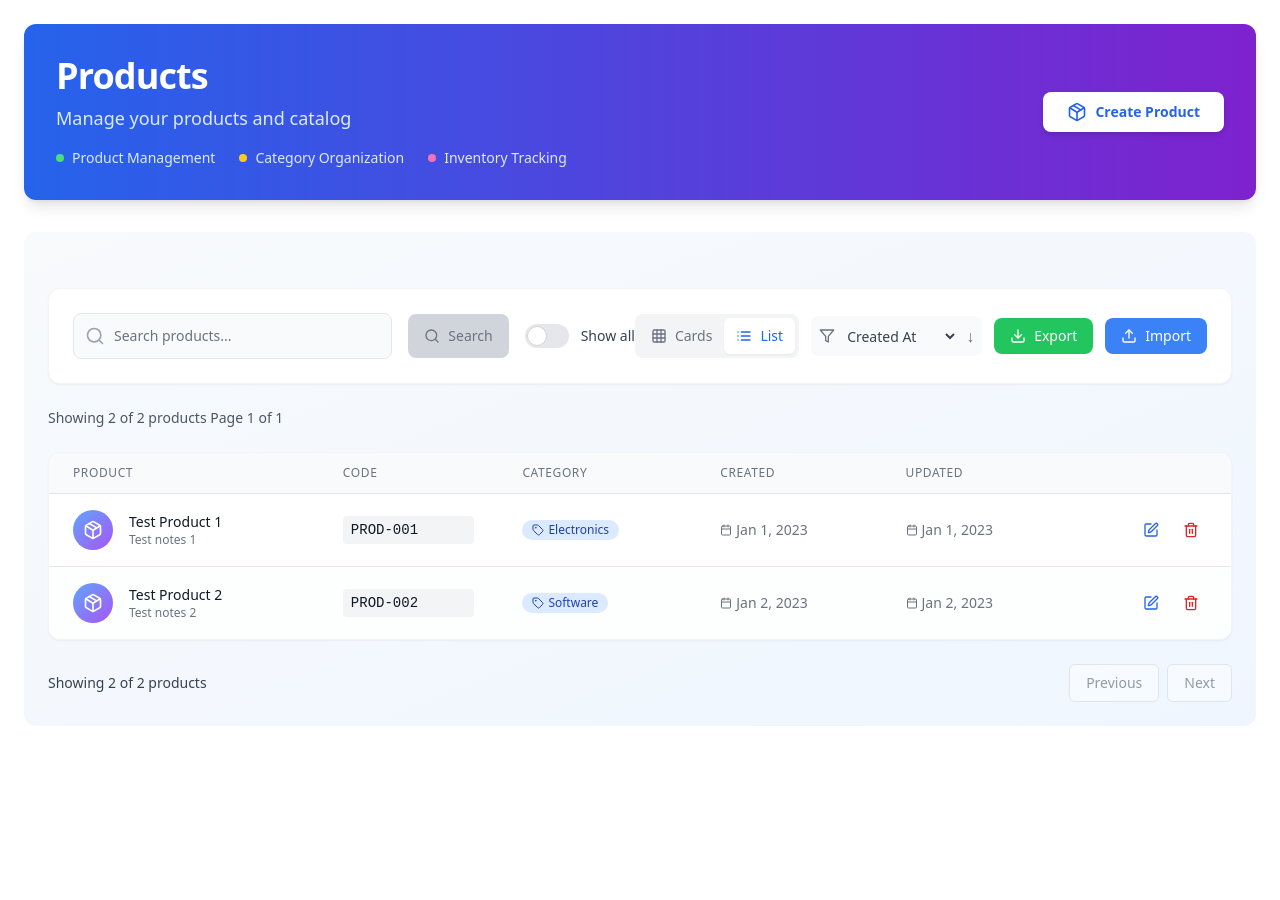
Test: Products Dashboard Page › Create Product Modal › should close modal when close button is clicked
// Open modal
Click the button "Create Product". click: (1134, 112)
box: [1043,92,1224,132]
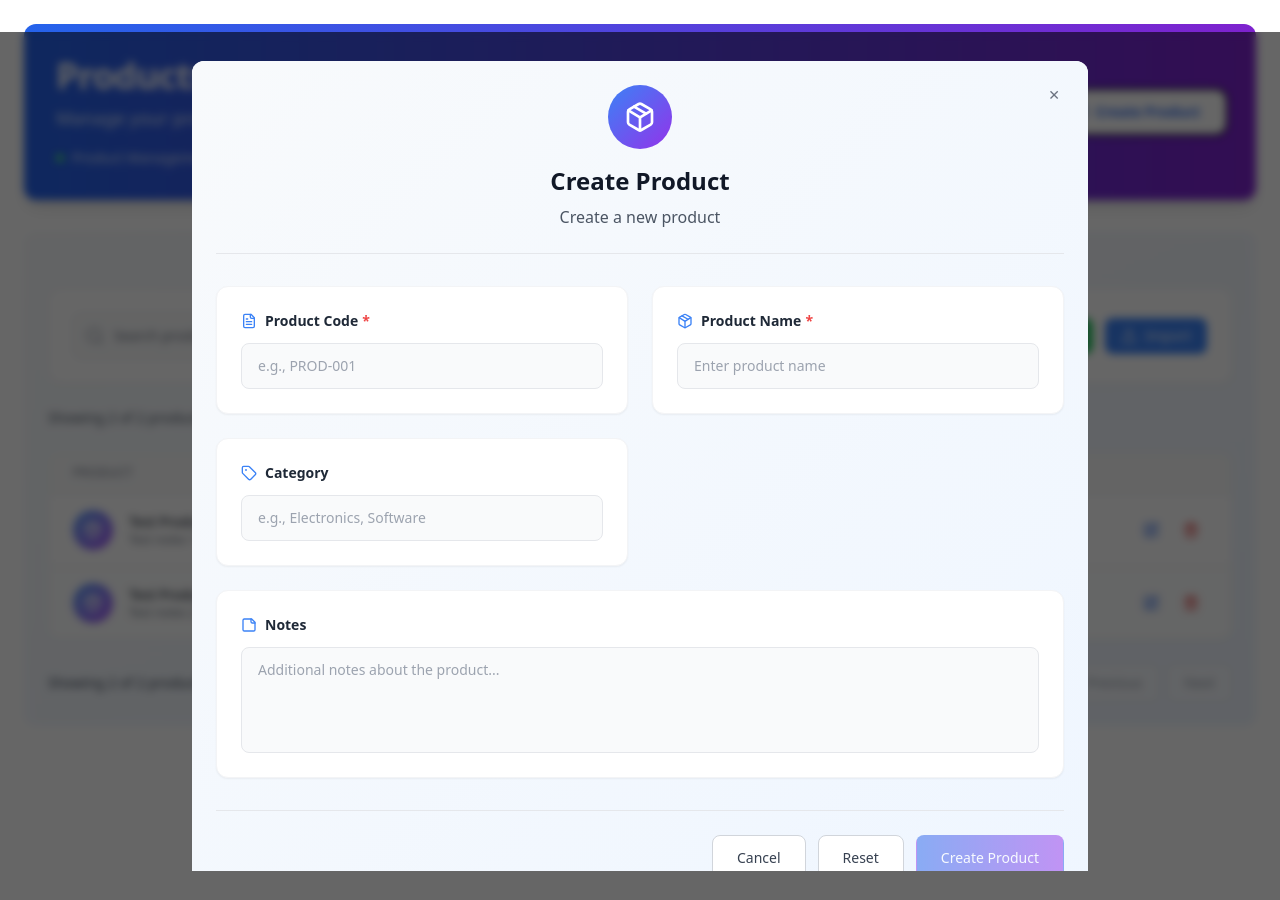
// Close modal
Click the button named "close". click: (1054, 95)
box: [1036,77,1072,113]
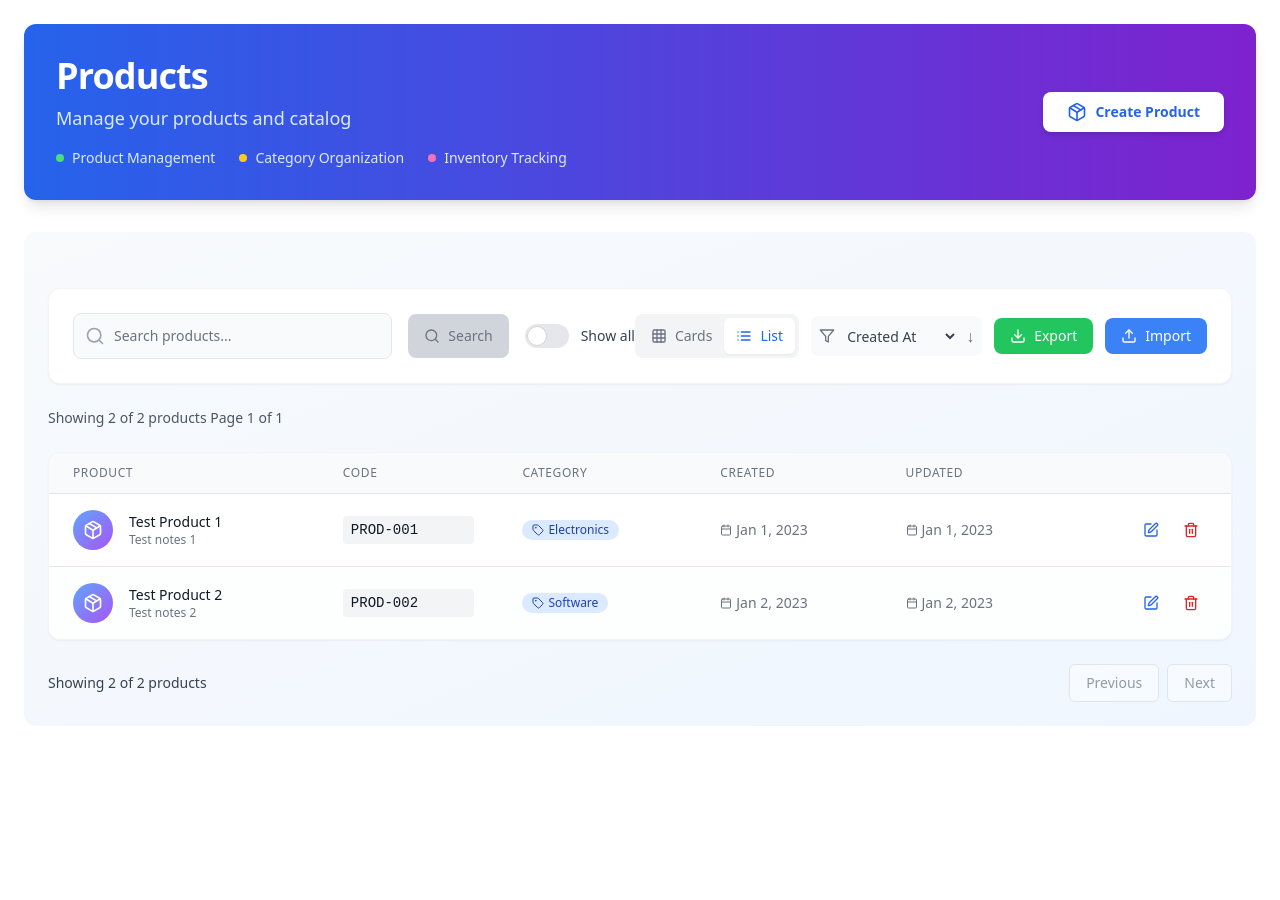
Expected: the dialog is gone
